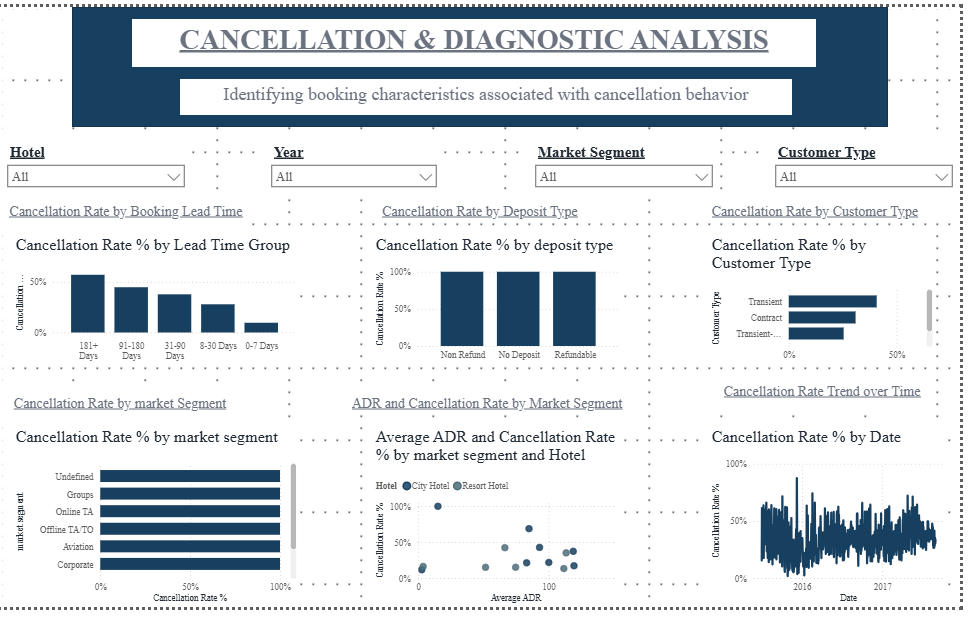

The dashboard page shown, as its layout file describes it:
{"tool":"powerbi","page":{"name":"ADVANCED / DIAGNOSTIC ANALYSIS","canvas":[1280,800],"ordinal":2},"visuals":[{"type":"shape","box":[96,0,1088,160],"z":0},{"type":"textbox","box":[240,96,816,48],"z":1000},{"type":"textbox","box":[176,16,912,64],"z":2000},{"type":"slicer","fields":{"Values":["FactHotelBookings.hotel"]},"box":[0,176,256,80],"z":2001},{"type":"slicer","fields":{"Values":["FactHotelBookings.Year"]},"box":[352,176,240,80],"z":2002},{"type":"slicer","fields":{"Values":["FactHotelBookings.market segment"]},"box":[704,176,256,80],"z":2003},{"type":"slicer","fields":{"Values":["FactHotelBookings.customer type"]},"box":[1024,176,256,80],"z":2004},{"type":"clusteredColumnChart","fields":{"Category":["FactHotelBookings.Lead Time Group"],"Y":["FactHotelBookings.Cancellation Rate %"]},"box":[16,304,384,176],"z":2005},{"type":"textbox","box":[0,256,336,48],"z":2006},{"type":"textbox","box":[0,512,320,48],"z":2007},{"type":"textbox","box":[496,256,288,32],"z":2008},{"type":"textbox","box":[944,256,320,32],"z":2009},{"type":"textbox","box":[464,512,400,32],"z":2010},{"type":"textbox","box":[960,496,288,48],"z":2011},{"type":"hundredPercentStackedBarChart","fields":{"Category":["FactHotelBookings.market segment"],"Y":["FactHotelBookings.Cancellation Rate %"]},"box":[16,560,384,240],"z":2012},{"type":"hundredPercentStackedColumnChart","fields":{"Category":["FactHotelBookings.deposit type"],"Y":["FactHotelBookings.Cancellation Rate %"]},"box":[496,304,336,176],"z":2013},{"type":"barChart","fields":{"Category":["DimCustomer.Customer Type"],"Y":["FactHotelBookings.Cancellation Rate %"]},"box":[944,304,304,176],"z":2014},{"type":"lineChart","fields":{"Category":["DimDate.Date"],"Y":["FactHotelBookings.Cancellation Rate %"]},"box":[944,560,320,240],"z":2015},{"type":"scatterChart","fields":{"Category":["FactHotelBookings.market segment"],"Series":["DimHotel.Hotel"],"X":["FactHotelBookings.Average ADR"],"Y":["FactHotelBookings.Cancellation Rate %"]},"box":[496,560,336,240],"z":2016}]}

Visuals, with their boxes in screenshot pixels (x1, y1, x2, y2), scaled from the page's 1280x800 canvas onto the 979x618 screenshot:
shape: (x1=73, y1=0, x2=906, y2=124)
textbox: (x1=184, y1=74, x2=808, y2=111)
textbox: (x1=135, y1=12, x2=832, y2=62)
slicer - FactHotelBookings.hotel: (x1=0, y1=136, x2=196, y2=198)
slicer - FactHotelBookings.Year: (x1=269, y1=136, x2=453, y2=198)
slicer - FactHotelBookings.market segment: (x1=538, y1=136, x2=734, y2=198)
slicer - FactHotelBookings.customer type: (x1=783, y1=136, x2=978, y2=198)
clusteredColumnChart - FactHotelBookings.Lead Time Group x FactHotelBookings.Cancellation Rate %: (x1=12, y1=235, x2=306, y2=371)
textbox: (x1=0, y1=198, x2=257, y2=235)
textbox: (x1=0, y1=396, x2=245, y2=433)
textbox: (x1=379, y1=198, x2=600, y2=222)
textbox: (x1=722, y1=198, x2=967, y2=222)
textbox: (x1=355, y1=396, x2=661, y2=420)
textbox: (x1=734, y1=383, x2=955, y2=420)
hundredPercentStackedBarChart - FactHotelBookings.market segment x FactHotelBookings.Cancellation Rate %: (x1=12, y1=433, x2=306, y2=617)
hundredPercentStackedColumnChart - FactHotelBookings.deposit type x FactHotelBookings.Cancellation Rate %: (x1=379, y1=235, x2=636, y2=371)
barChart - DimCustomer.Customer Type x FactHotelBookings.Cancellation Rate %: (x1=722, y1=235, x2=955, y2=371)
lineChart - DimDate.Date x FactHotelBookings.Cancellation Rate %: (x1=722, y1=433, x2=967, y2=617)
scatterChart - FactHotelBookings.market segment x DimHotel.Hotel: (x1=379, y1=433, x2=636, y2=617)
